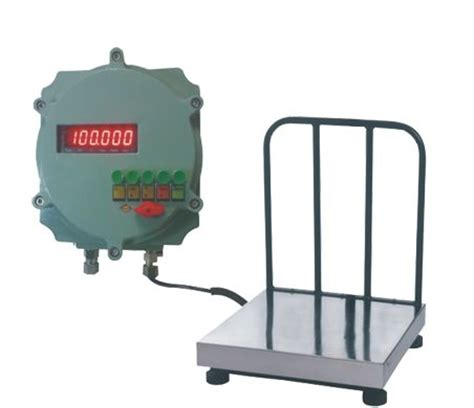Industrial Scale: (32, 46, 427, 407)
